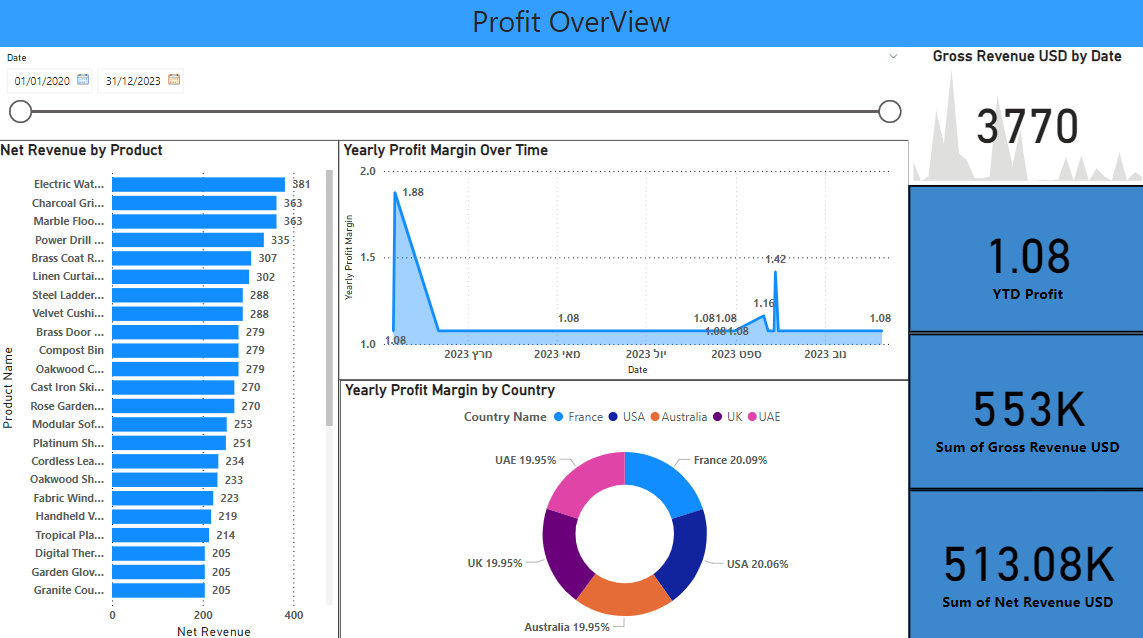

Layout of this report page (visuals, bound fields, positions):
{"tool":"powerbi","page":{"name":"Profit Overview","canvas":[1280,720],"ordinal":1},"visuals":[{"type":"textbox","box":[0,0,1280,57.4],"z":0},{"type":"barChart","title":"Net Revenue by Product","fields":{"Category":["Sales in USD.Product Name"],"Y":["Sum(Sales in USD.Net Revenue)"]},"box":[0,159.7,381.7,560.1],"z":1000},{"type":"donutChart","title":"Yearly Profit Margin by Country","fields":{"Category":["Sales in USD.Country Name"],"Y":["Sales in USD.Yearly Profit Margin"]},"box":[382.8,426.3,632.7,293.5],"z":2000},{"type":"areaChart","title":"Yearly Profit Margin Over Time","fields":{"Y":["Sales in USD.Yearly Profit Margin"],"Category":["CalendarTable.Date"]},"box":[381.7,159.7,633.8,266.6],"z":3000},{"type":"card","fields":{"Values":["Sales in USD.YTD Profit"]},"box":[1015.5,210.6,264.5,163.9],"z":4000},{"type":"card","fields":{"Values":["Sum(Sales in USD.Net Revenue USD)"]},"box":[1015.5,547.7,264.5,172.2],"z":5000},{"type":"kpi","title":"Gross Revenue USD by Date","fields":{"Indicator":["Sum(Sales in USD.Gross Revenue USD)"],"TrendLine":["CalendarTable.Date"]},"box":[1015.5,57.1,264.5,153.5],"z":6000},{"type":"slicer","fields":{"Values":["CalendarTable.Date"]},"box":[0,57.1,1015.5,102.7],"z":6001},{"type":"card","fields":{"Values":["Sum(Sales in USD.Gross Revenue USD)"]},"box":[1015.5,374.5,264.5,173.2],"z":6002}]}

Visuals, with their boxes in screenshot pixels (x1, y1, x2, y2), scaled from the page's 1280x720 canvas onto the 1143x638 screenshot:
textbox: left=0, top=0, right=1142, bottom=51
"Net Revenue by Product" barChart: left=0, top=142, right=341, bottom=637
"Yearly Profit Margin by Country" donutChart: left=342, top=378, right=907, bottom=637
"Yearly Profit Margin Over Time" areaChart: left=341, top=142, right=907, bottom=378
card - Sales in USD.YTD Profit: left=907, top=187, right=1142, bottom=332
card - Sum(Sales in USD.Net Revenue USD): left=907, top=485, right=1142, bottom=637
"Gross Revenue USD by Date" kpi: left=907, top=51, right=1142, bottom=187
slicer - CalendarTable.Date: left=0, top=51, right=907, bottom=142
card - Sum(Sales in USD.Gross Revenue USD): left=907, top=332, right=1142, bottom=485
